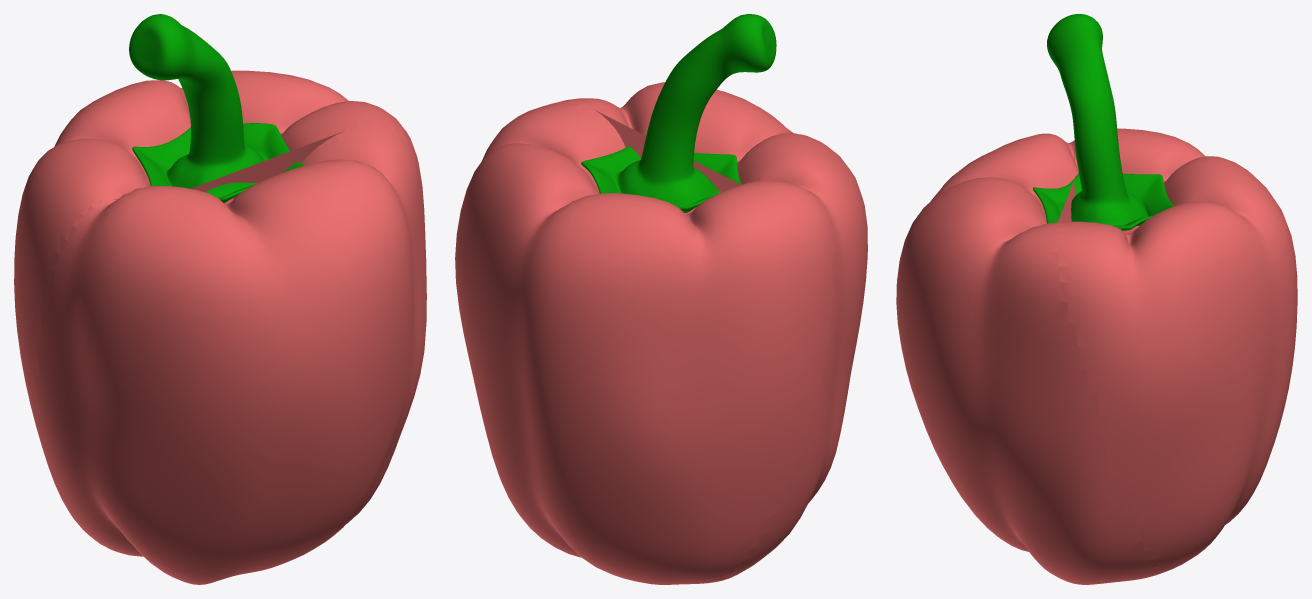
File: Camsicum.fbx
The picture shows the model from 3 angles, left to right: view 1: azimuth 30°, elevation 25°; view 2: azimuth 150°, elevation 25°; view 3: azimuth 270°, elevation 25°; orthographic projection. The views are drawn at different scales.
Visible parts, largest first — view 1: Camsicum; view 2: Camsicum; view 3: Camsicum.
Boxes of the visible parts, x1,y1,x2,y2 form: Camsicum: (14, 14, 426, 584); Camsicum: (455, 14, 867, 584); Camsicum: (896, 14, 1297, 584).
Size of the model in its own units: 950 by 1375 by 1000.
